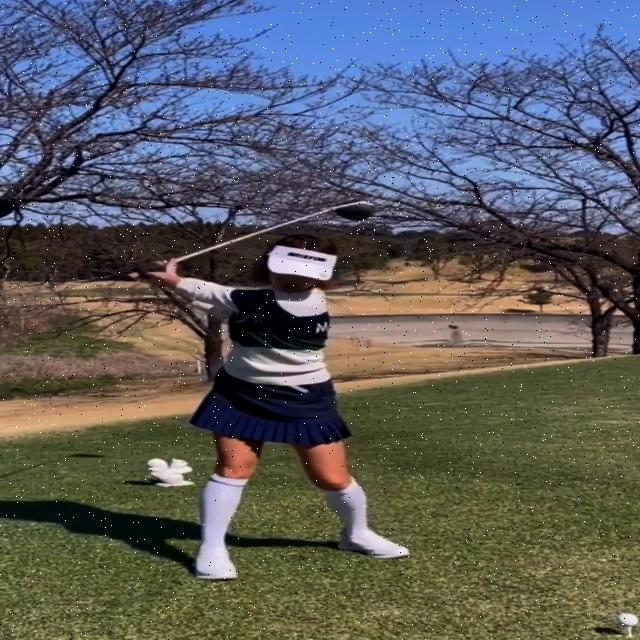ClubHead: (335, 201, 377, 222)
GolfBall: (619, 614, 639, 626)
